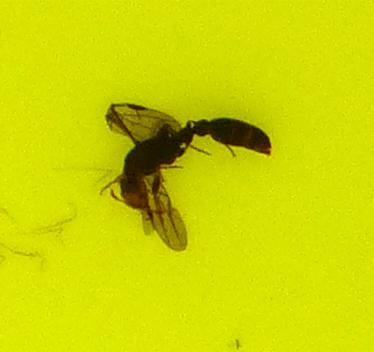Hymenoptera: (100, 100, 274, 252)
